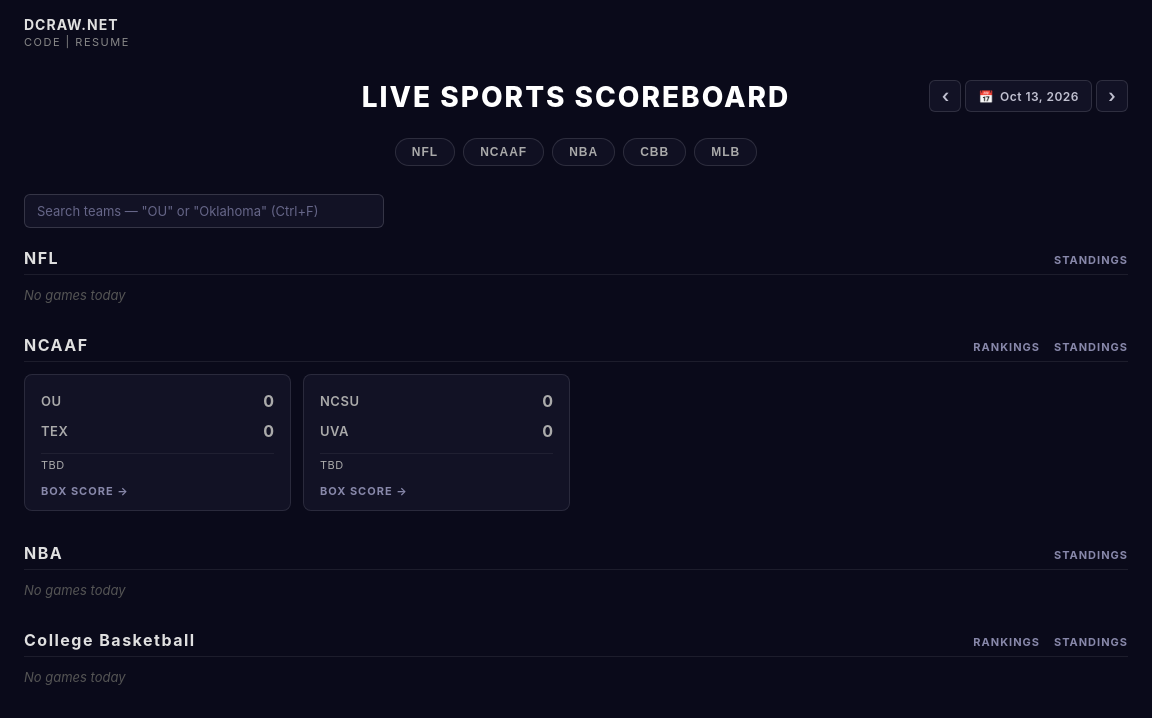
Test: SportsPage search › hides empty leagues while searching and shows a no-match message
Type "zzz" into the search field at (204, 211), box [24,194,384,228]
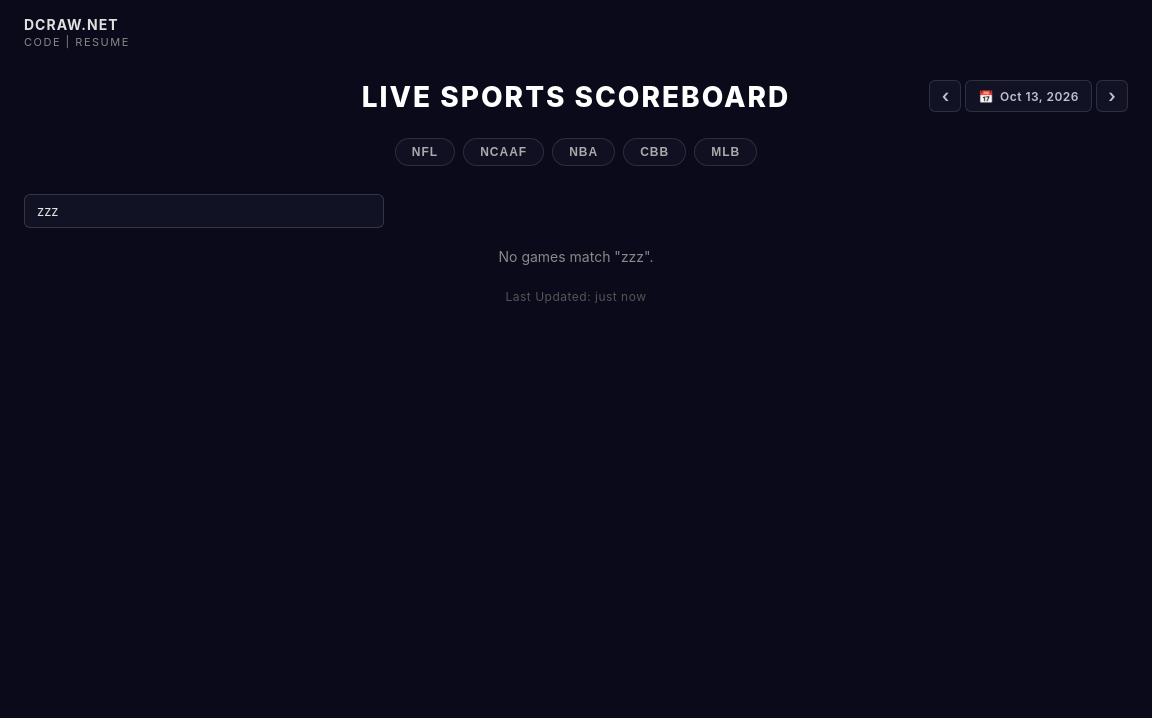
Result: the text "No games match \"zzz\"." is shown at [498,248,654,265]
